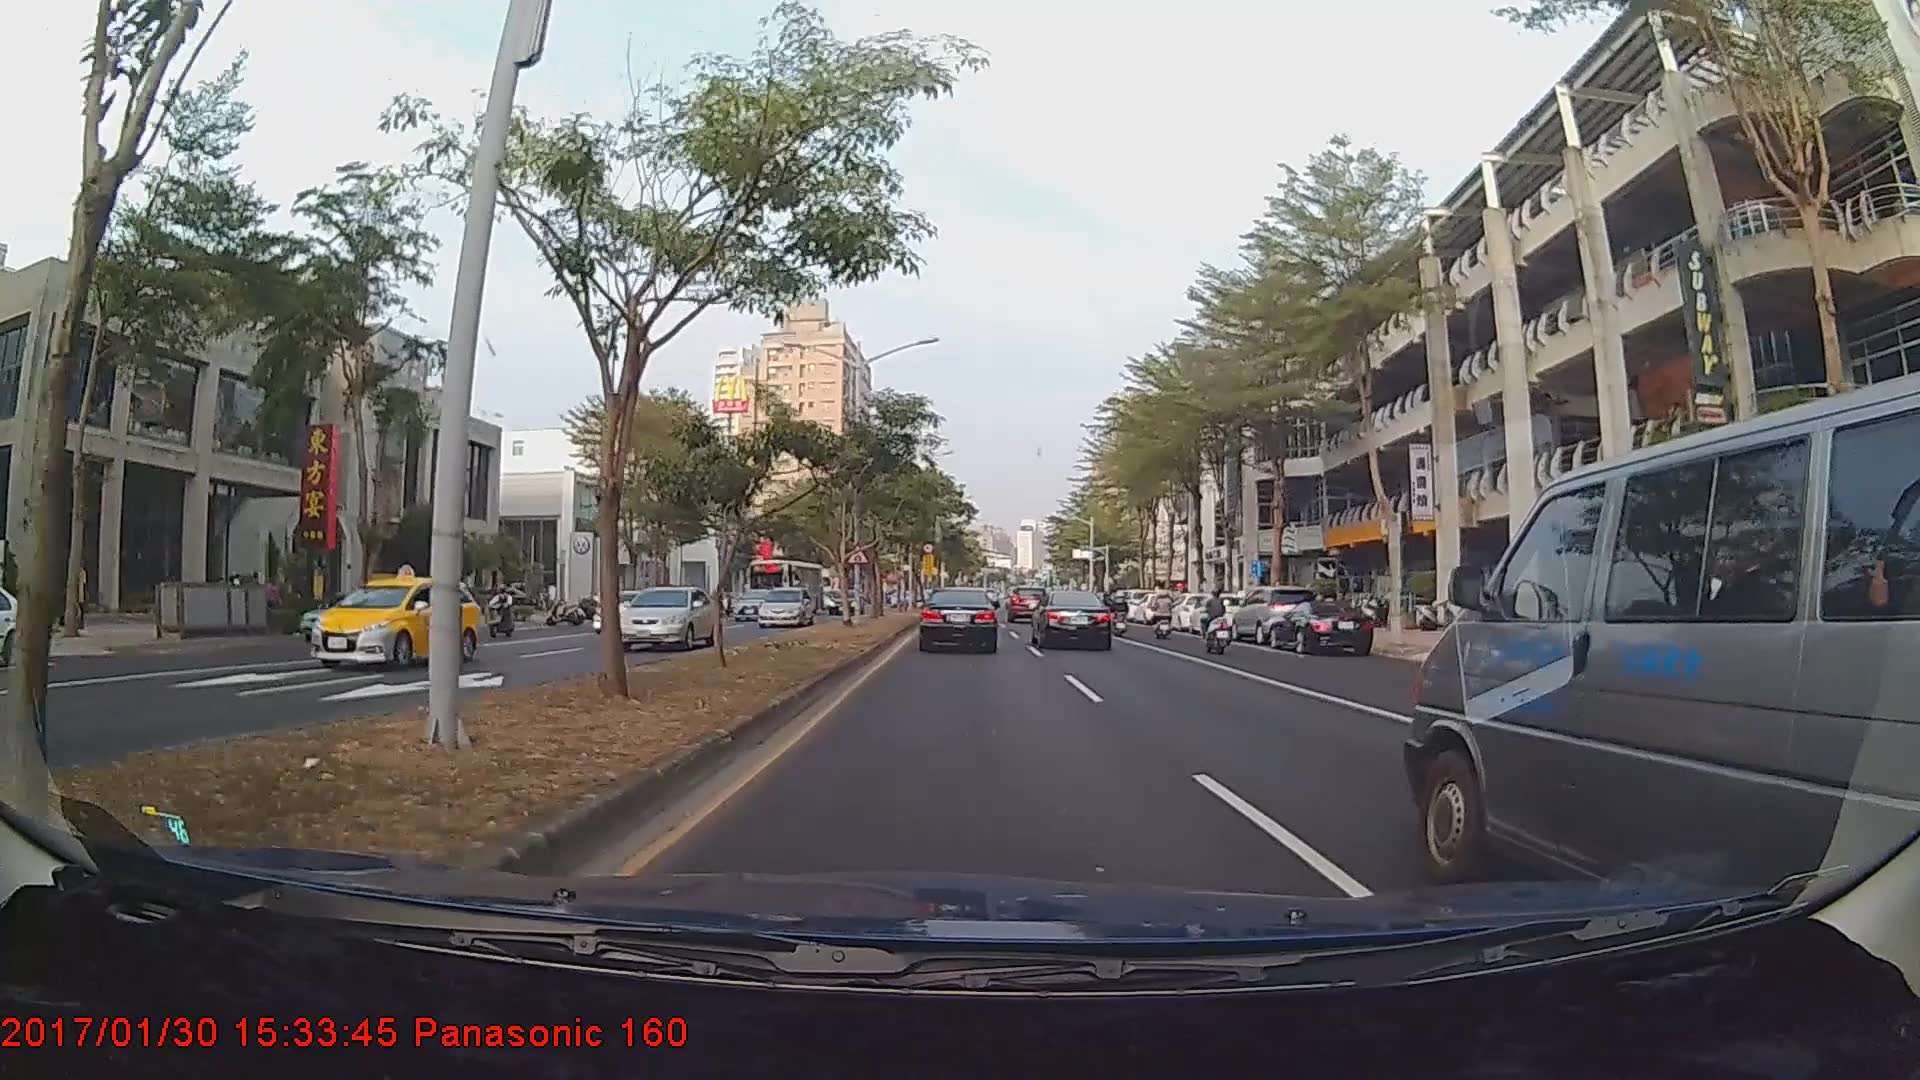rider: (1198, 587, 1236, 659), (484, 582, 517, 642), (1147, 585, 1178, 643), (1109, 587, 1131, 637)
vehicle: (1421, 400, 1910, 902), (308, 571, 484, 672), (615, 585, 720, 651), (917, 586, 1000, 654), (1233, 587, 1322, 648), (1268, 601, 1373, 652), (744, 558, 825, 621), (1032, 589, 1112, 652), (1188, 591, 1249, 634), (754, 586, 813, 629), (1005, 587, 1049, 624), (730, 588, 777, 621), (823, 587, 861, 615)
